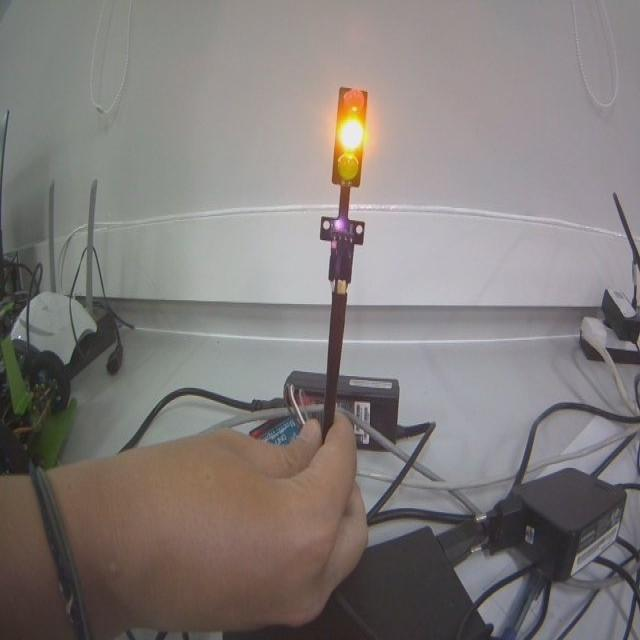Lampu Kuning: (331, 86, 368, 190)
